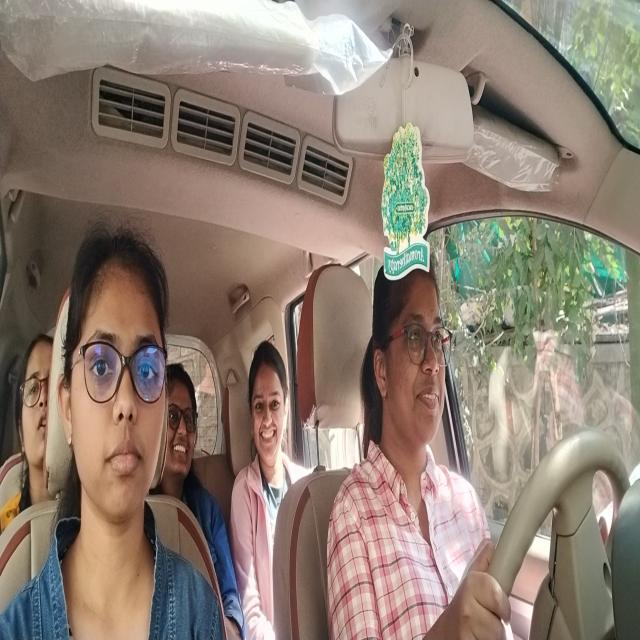person: (62, 229, 168, 525), (372, 249, 452, 471), (18, 333, 56, 475), (250, 332, 288, 473), (170, 360, 199, 480)
